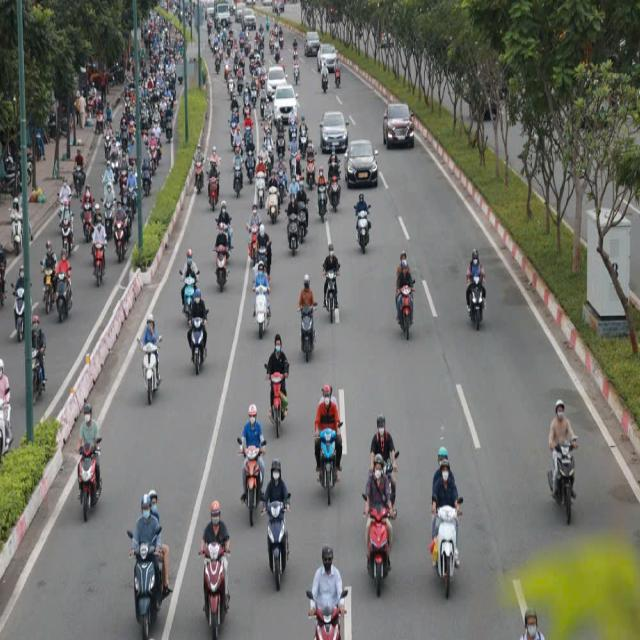car: (382, 96, 418, 159), (346, 135, 380, 195), (319, 104, 352, 160), (272, 80, 300, 130), (265, 59, 291, 102), (316, 38, 344, 73), (302, 23, 324, 58)
motobyte: (195, 488, 238, 640), (124, 482, 166, 636), (429, 444, 462, 604), (262, 451, 293, 601), (235, 396, 266, 540), (310, 374, 342, 511), (366, 452, 392, 599), (74, 400, 104, 524), (262, 331, 294, 440), (392, 242, 422, 347), (132, 310, 164, 406), (184, 285, 212, 380), (296, 268, 322, 368), (467, 240, 489, 344), (53, 243, 75, 330), (9, 263, 30, 348), (324, 237, 341, 331), (209, 220, 231, 291), (252, 258, 270, 343), (180, 244, 199, 324), (351, 190, 371, 262), (88, 216, 108, 288), (78, 182, 95, 248), (313, 166, 331, 225), (190, 134, 205, 202), (283, 193, 300, 253), (208, 142, 220, 216), (230, 146, 246, 198)
